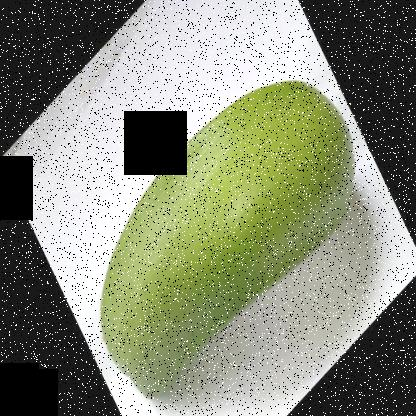freshunripe: (89, 59, 365, 411)
